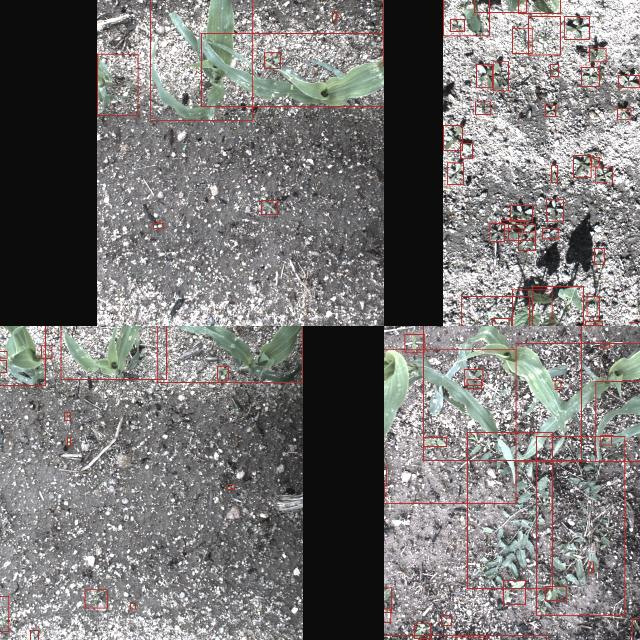crop: (423, 326, 581, 460), (384, 349, 515, 502), (515, 343, 640, 461), (201, 32, 384, 105), (150, 0, 252, 119), (156, 326, 302, 382), (60, 326, 166, 379), (595, 381, 640, 461), (96, 53, 138, 115), (0, 326, 44, 384), (531, 286, 582, 326), (442, 0, 488, 35), (511, 289, 551, 326), (518, 0, 560, 13)
weed: (536, 436, 624, 614), (466, 432, 552, 588), (461, 295, 529, 326), (528, 16, 560, 54), (564, 16, 588, 38), (503, 580, 525, 604), (442, 124, 462, 150), (511, 28, 531, 52), (492, 61, 508, 90), (508, 223, 534, 239), (573, 155, 591, 177), (84, 589, 106, 607), (404, 333, 424, 351), (510, 204, 532, 220), (447, 162, 463, 184), (475, 64, 491, 86), (581, 66, 599, 85), (546, 200, 562, 220), (488, 222, 504, 242), (518, 230, 534, 250), (464, 369, 482, 385), (618, 74, 638, 88), (546, 586, 566, 600), (414, 622, 431, 638), (264, 52, 280, 68), (588, 47, 606, 61), (594, 168, 612, 182), (0, 595, 7, 630), (586, 296, 598, 316), (422, 436, 446, 446), (261, 200, 277, 214), (474, 100, 490, 114), (460, 142, 472, 158), (501, 220, 524, 228), (449, 18, 463, 30), (542, 228, 558, 238), (593, 248, 603, 264), (216, 366, 228, 379), (616, 108, 630, 119), (40, 344, 51, 358), (491, 318, 510, 326), (544, 104, 556, 116), (466, 378, 480, 388), (600, 434, 612, 444), (551, 164, 557, 182), (441, 615, 451, 625), (550, 64, 558, 76), (30, 629, 38, 640), (152, 222, 164, 228), (584, 321, 602, 325), (591, 157, 599, 166), (0, 360, 6, 372), (588, 560, 594, 572), (384, 608, 389, 622), (64, 412, 70, 421), (554, 379, 560, 388), (0, 350, 6, 357), (599, 343, 609, 347), (332, 12, 336, 21), (66, 437, 70, 445), (228, 484, 235, 488), (130, 602, 134, 608), (639, 513, 640, 519)
